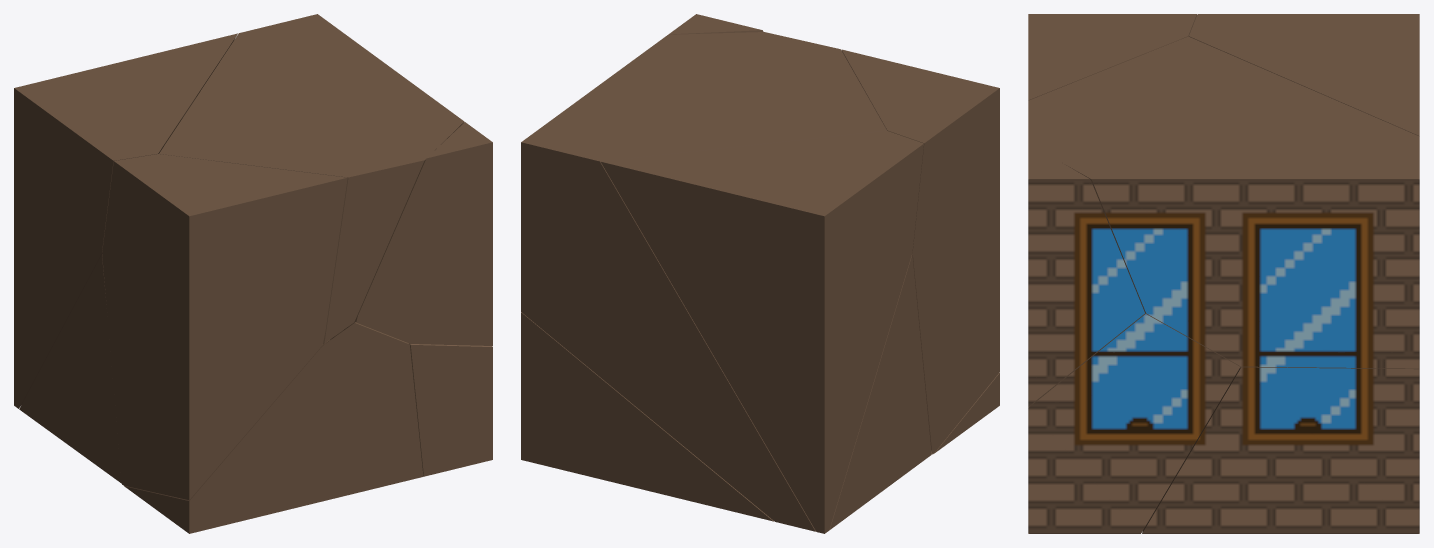
The model's file is BrickBuildingBrown128x128_Floor01_break.fbx.
The picture shows the model from 3 angles, left to right: view 1: azimuth 30°, elevation 25°; view 2: azimuth 150°, elevation 25°; view 3: azimuth 270°, elevation 25°; orthographic projection. The views are drawn at different scales.
Visible parts, largest first — view 1: Floor01Break04, Floor01Break01, Floor01Break03, Floor01Break06, Floor01Break05, Floor01Break07; view 2: Floor01Break01, Floor01Break03, Floor01Break04, Floor01Break02, Floor01Break06, Floor01Break05; view 3: Floor01Break01, Floor01Break02, Floor01Break07, Floor01Break05, Floor01Break03, Floor01Break04.
Boxes of the visible parts, x1,y1,x2,y2 form: Floor01Break04: [102, 154, 347, 499]; Floor01Break01: [19, 14, 464, 483]; Floor01Break03: [14, 33, 237, 408]; Floor01Break06: [124, 322, 423, 533]; Floor01Break05: [356, 122, 492, 345]; Floor01Break07: [409, 343, 492, 476]; Floor01Break01: [521, 32, 931, 531]; Floor01Break03: [601, 130, 923, 533]; Floor01Break04: [841, 49, 999, 454]; Floor01Break02: [521, 312, 773, 521]; Floor01Break06: [931, 372, 999, 454]; Floor01Break05: [668, 14, 763, 34]; Floor01Break01: [1028, 36, 1419, 369]; Floor01Break02: [1142, 367, 1419, 533]; Floor01Break07: [1028, 313, 1239, 533]; Floor01Break05: [1028, 143, 1144, 406]; Floor01Break03: [1189, 14, 1419, 136]; Floor01Break04: [1028, 14, 1196, 100].
Size of the model in its own units: 100 by 100 by 100.
1 material, 1 textured.
